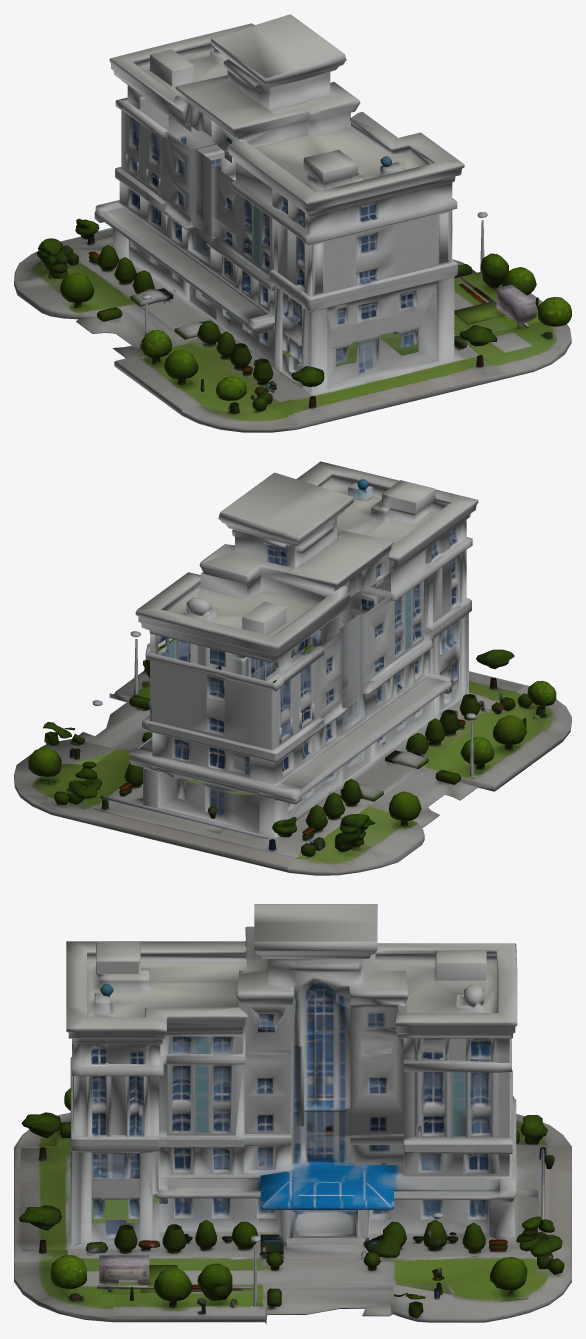
Rendered from pozarevac-hospital.glb.
The picture shows the model from 3 angles, top to bottom: view 1: azimuth 30°, elevation 25°; view 2: azimuth 150°, elevation 25°; view 3: azimuth 270°, elevation 25°; orthographic projection. The views are drawn at different scales.
Parts seen in each view (by area): view 1: tripo_node_f9fe4a96-37bf-4b37-b412-cf7504eb6dc1; view 2: tripo_node_f9fe4a96-37bf-4b37-b412-cf7504eb6dc1; view 3: tripo_node_f9fe4a96-37bf-4b37-b412-cf7504eb6dc1.
Boxes of the visible parts, <box> form: tripo_node_f9fe4a96-37bf-4b37-b412-cf7504eb6dc1: <box>14,14,571,432</box>; tripo_node_f9fe4a96-37bf-4b37-b412-cf7504eb6dc1: <box>14,461,571,875</box>; tripo_node_f9fe4a96-37bf-4b37-b412-cf7504eb6dc1: <box>14,904,571,1324</box>.
Size of the model in its own units: 30.94 by 20 by 34.3.
1 material, 1 textured.
